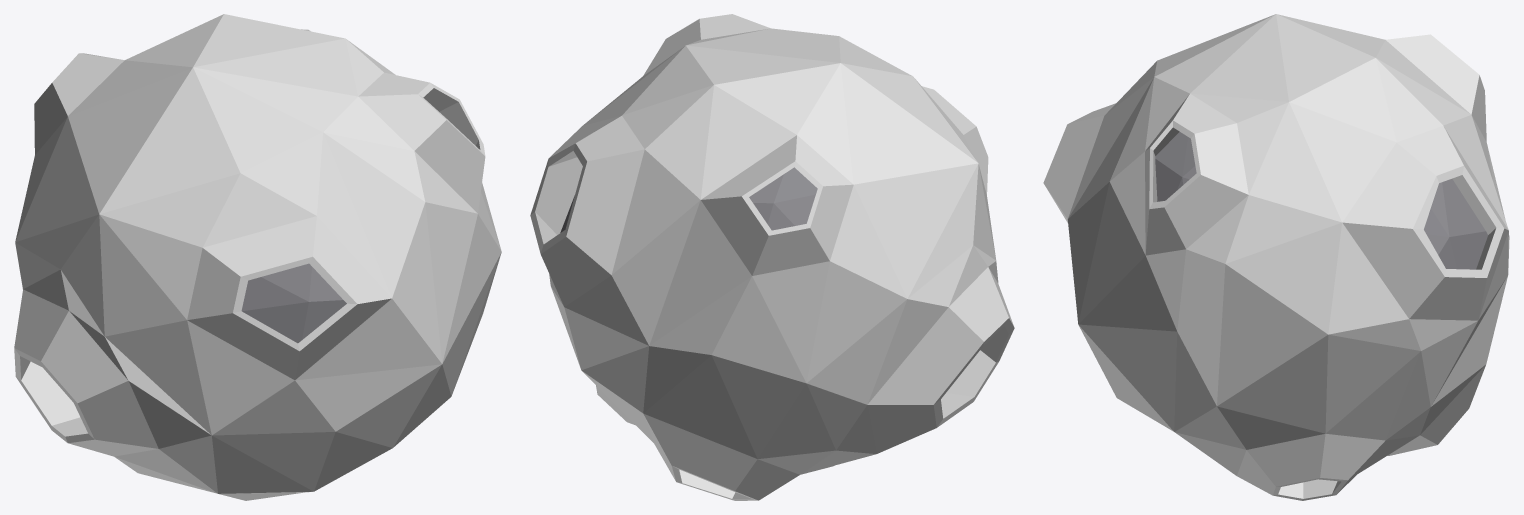
File: Planet_01_a.fbx
The picture shows the model from 3 angles, left to right: view 1: azimuth 30°, elevation 25°; view 2: azimuth 150°, elevation 25°; view 3: azimuth 270°, elevation 25°; orthographic projection. The views are drawn at different scales.
Visible parts, largest first — view 1: Planet_01; view 2: Planet_01; view 3: Planet_01.
Boxes of the visible parts, x1,y1,x2,y2 form: Planet_01: (14,14,501,500); Planet_01: (530,14,1014,500); Planet_01: (1043,14,1509,500).
Bounding box in the file's own units: 70.38 × 65.93 × 66.79.
